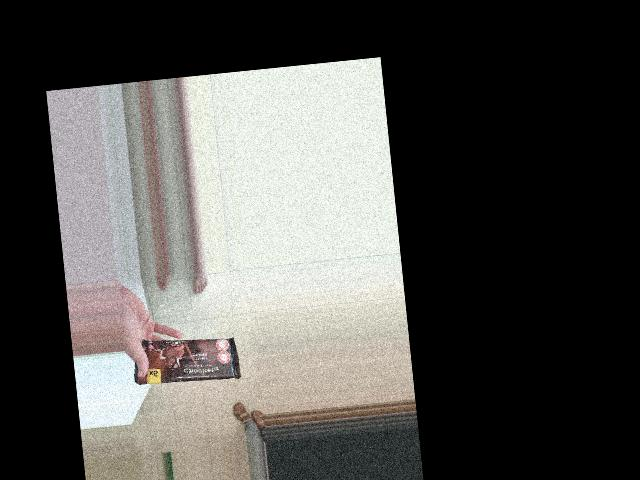chocolate: (183, 316, 254, 431)
